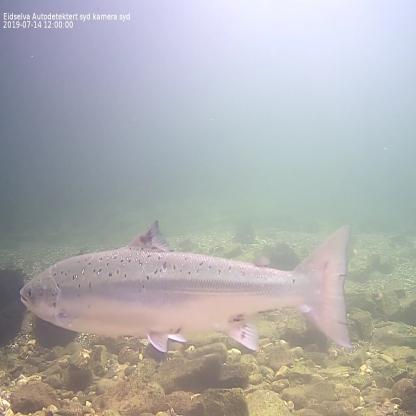salmon: (17, 213, 356, 356)
